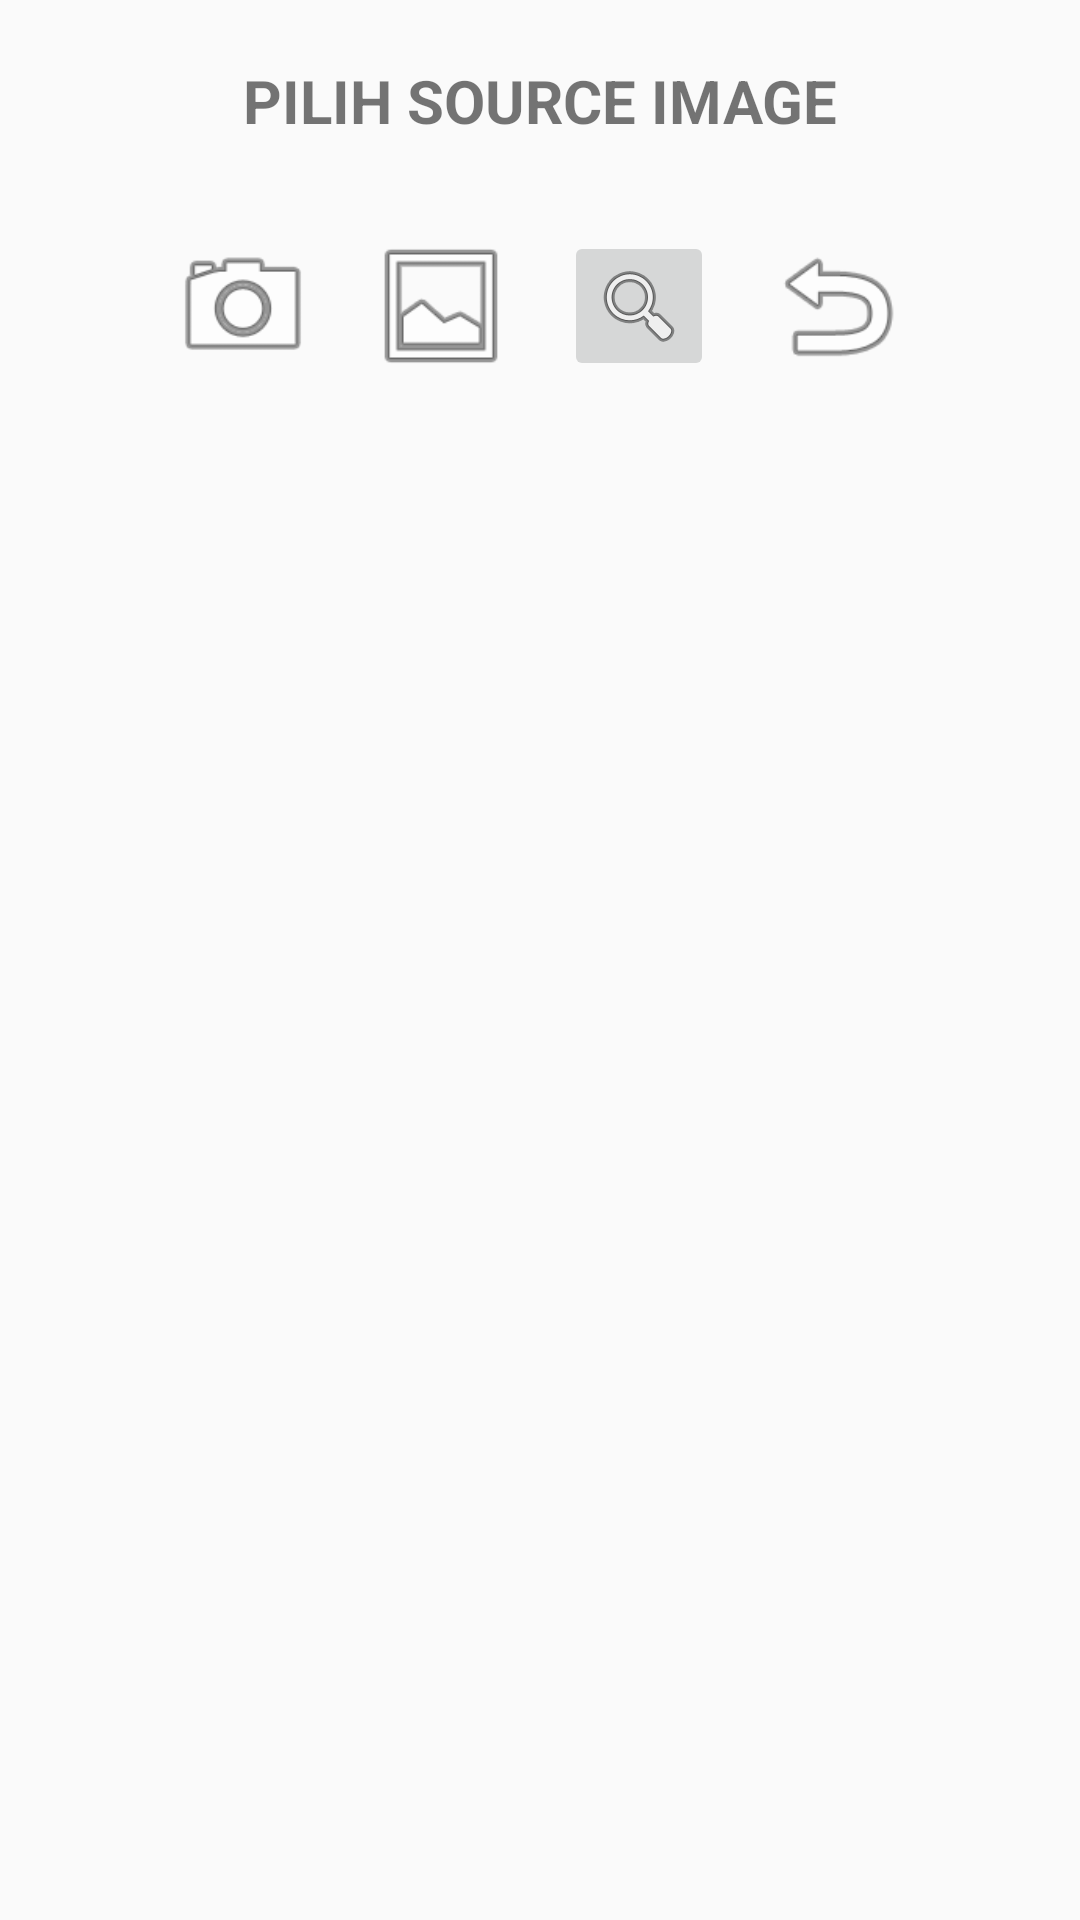

Screen size 1080 x 1920. Icon name, then its box in pixels as bbox=(x1, y1, x2, y2):
camera: bbox=(185, 257, 301, 350)
gallery: bbox=(384, 249, 498, 363)
revert: bbox=(785, 258, 893, 356)
search: bbox=(576, 249, 702, 363)
